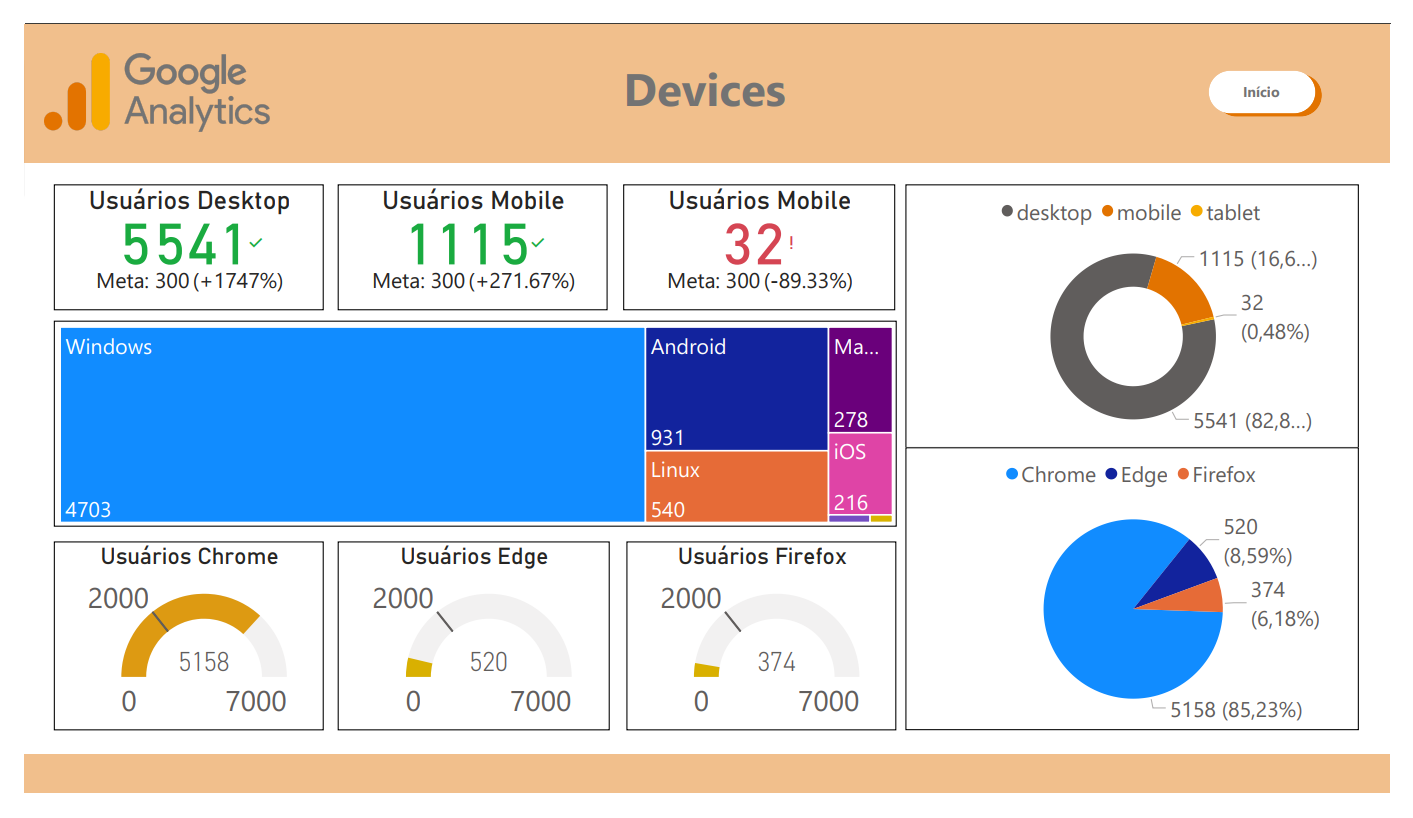

The dashboard page shown, as its layout file describes it:
{"tool":"powerbi","page":{"name":"Devices","canvas":[1280,720],"ordinal":4},"visuals":[{"type":"shape","box":[0,0,1280,130],"z":0},{"type":"kpi","title":"Usuários Desktop","fields":{"Indicator":["Sum(devices.ga_users)"],"Goal":["Max(devices.mt_device)"],"TrendLine":["devices.view_id"]},"box":[26.7,150,253.3,118.3],"z":1000},{"type":"kpi","title":"Usuários Mobile","fields":{"Indicator":["Sum(devices.ga_users)"],"Goal":["Max(devices.mt_device)"],"TrendLine":["devices.view_id"]},"box":[293.3,150,253.3,118.3],"z":2000},{"type":"kpi","title":"Usuários Mobile","fields":{"Indicator":["Sum(devices.ga_users)"],"Goal":["Max(devices.mt_device)"],"TrendLine":["devices.view_id"]},"box":[561.7,150,255,118.3],"z":3000},{"type":"donutChart","fields":{"Y":["Sum(devices.ga_users)"],"Category":["devices.ga_devicecategory"]},"box":[825,150,425,246.7],"z":4000},{"type":"gauge","fields":{"Y":["Sum(devices.ga_users)"]},"box":[26.7,485,253.3,176.7],"z":5000},{"type":"gauge","fields":{"Y":["Sum(devices.ga_users)"]},"box":[293.3,485,255,176.7],"z":6000},{"type":"gauge","fields":{"Y":["Sum(devices.ga_users)"]},"box":[563.3,485,253.3,176.7],"z":7000},{"type":"pieChart","fields":{"Y":["Sum(devices.ga_users)"],"Category":["devices.ga_browser"]},"box":[825,396.7,425,265],"z":8000},{"type":"treemap","fields":{"Values":["Sum(devices.ga_users)"],"Group":["devices.ga_operatingsystem"]},"box":[26.7,278.3,790,193.3],"z":9000},{"type":"actionButton","box":[1115.8,47.8,99.6,40.1],"z":10000},{"type":"actionButton","box":[1109.3,44,99.6,40.1],"z":11000},{"type":"textbox","box":[534,25.9,210.7,76.3],"z":12000},{"type":"image","box":[14.2,0,221.1,129.3],"z":13000},{"type":"shape","box":[0,683.3,1280,36.7],"z":14000}]}

Visuals, with their boxes in screenshot pixels (x1, y1, x2, y2), scaled from the page's 1280x720 canvas onto the 1413x818 screenshot:
shape: detection(0, 0, 1412, 148)
"Usuários Desktop" kpi: detection(29, 170, 309, 305)
"Usuários Mobile" kpi: detection(324, 170, 603, 305)
"Usuários Mobile" kpi: detection(620, 170, 902, 305)
donutChart - Sum(devices.ga_users) x devices.ga_devicecategory: detection(911, 170, 1380, 451)
gauge - Sum(devices.ga_users): detection(29, 551, 309, 752)
gauge - Sum(devices.ga_users): detection(324, 551, 605, 752)
gauge - Sum(devices.ga_users): detection(622, 551, 901, 752)
pieChart - Sum(devices.ga_users) x devices.ga_browser: detection(911, 451, 1380, 752)
treemap - Sum(devices.ga_users) x devices.ga_operatingsystem: detection(29, 316, 902, 536)
actionButton: detection(1232, 54, 1342, 100)
actionButton: detection(1225, 50, 1335, 96)
textbox: detection(589, 29, 822, 116)
image: detection(16, 0, 260, 147)
shape: detection(0, 776, 1412, 817)
